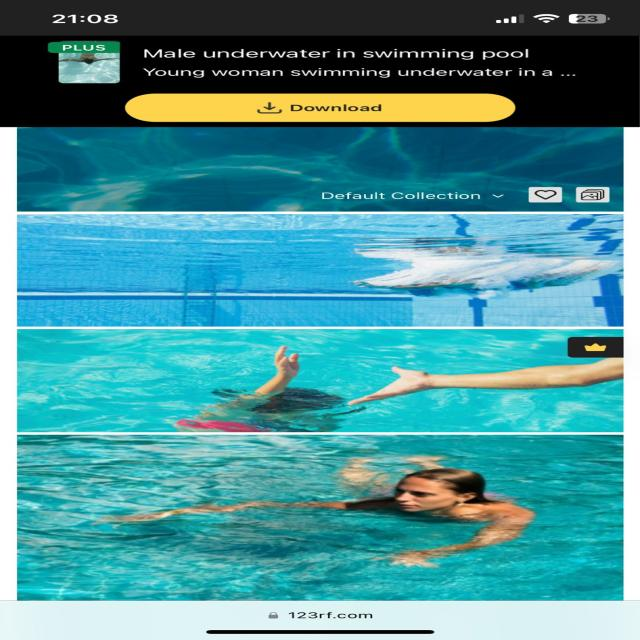Drowning: (203, 344, 350, 424)
Swimming: (117, 470, 532, 556), (359, 250, 590, 305)
